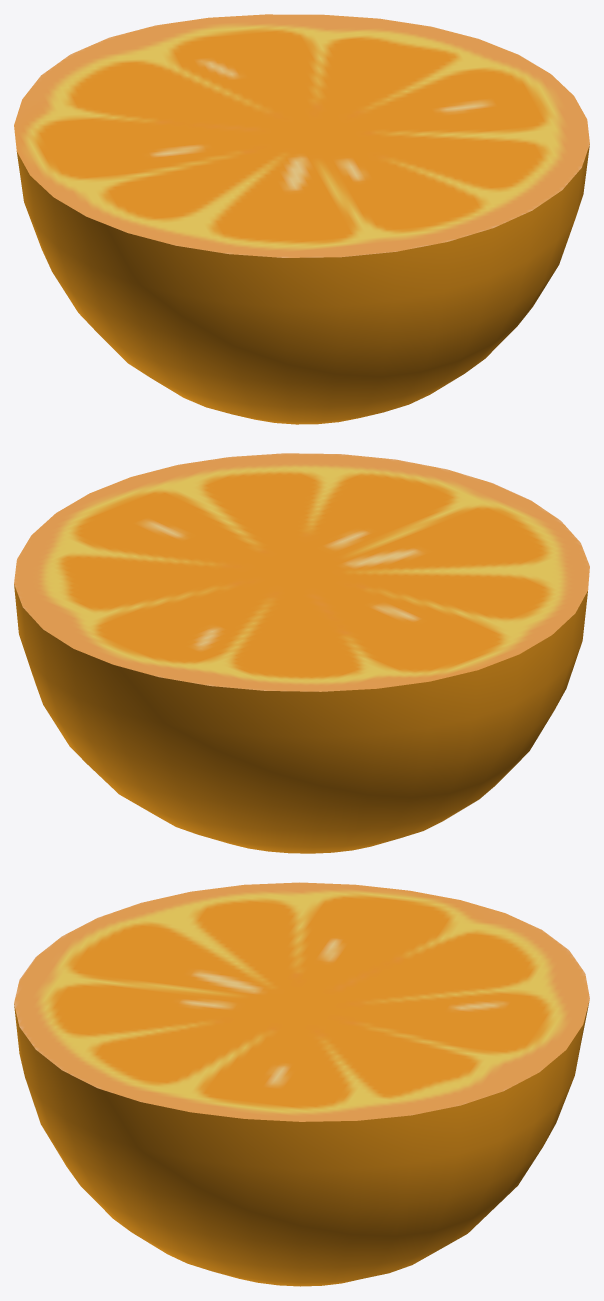
The model's file is Orange_Half.fbx.
The picture shows the model from 3 angles, top to bottom: view 1: azimuth 30°, elevation 25°; view 2: azimuth 150°, elevation 25°; view 3: azimuth 270°, elevation 25°; orthographic projection.
Visible parts, largest first — view 1: Sphere.017; view 2: Sphere.017; view 3: Sphere.017.
Part boxes in pixels (x1=…): Sphere.017: x1=14, y1=14, x2=589, y2=424; Sphere.017: x1=14, y1=453, x2=589, y2=853; Sphere.017: x1=14, y1=882, x2=589, y2=1286.
Size of the model in its own units: 89.91 by 45.98 by 90.88.
